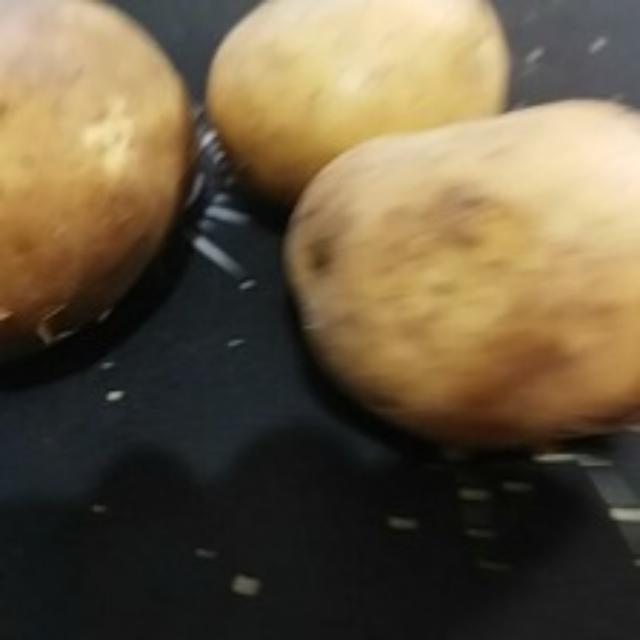Damaged potato: (275, 98, 637, 472), (4, 1, 202, 393)
Potato: (209, 1, 519, 212)
